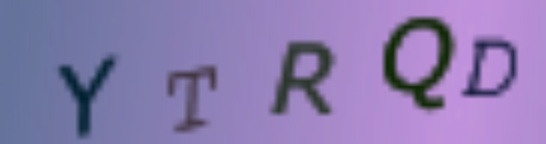D: (460, 36, 523, 98)
Q: (377, 15, 459, 113)
R: (268, 37, 338, 120)
T: (162, 60, 220, 136)
Y: (54, 53, 121, 141)
